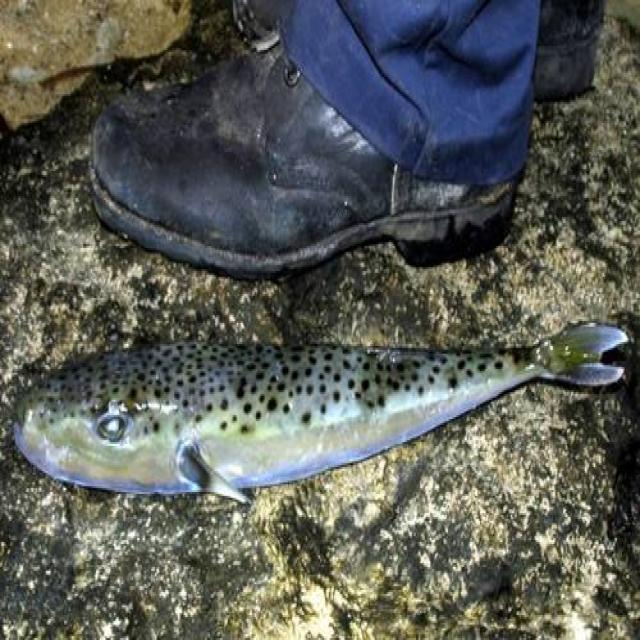Balik: (16, 325, 628, 501)
